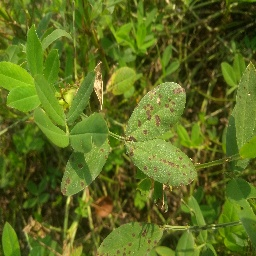GroundNut_Leaf: (125, 139, 199, 187), (124, 81, 186, 137), (234, 61, 256, 162), (98, 221, 162, 254), (60, 153, 107, 196), (70, 112, 108, 152), (34, 109, 68, 145), (71, 68, 96, 111), (25, 23, 43, 73), (6, 84, 40, 108), (2, 220, 20, 254)
